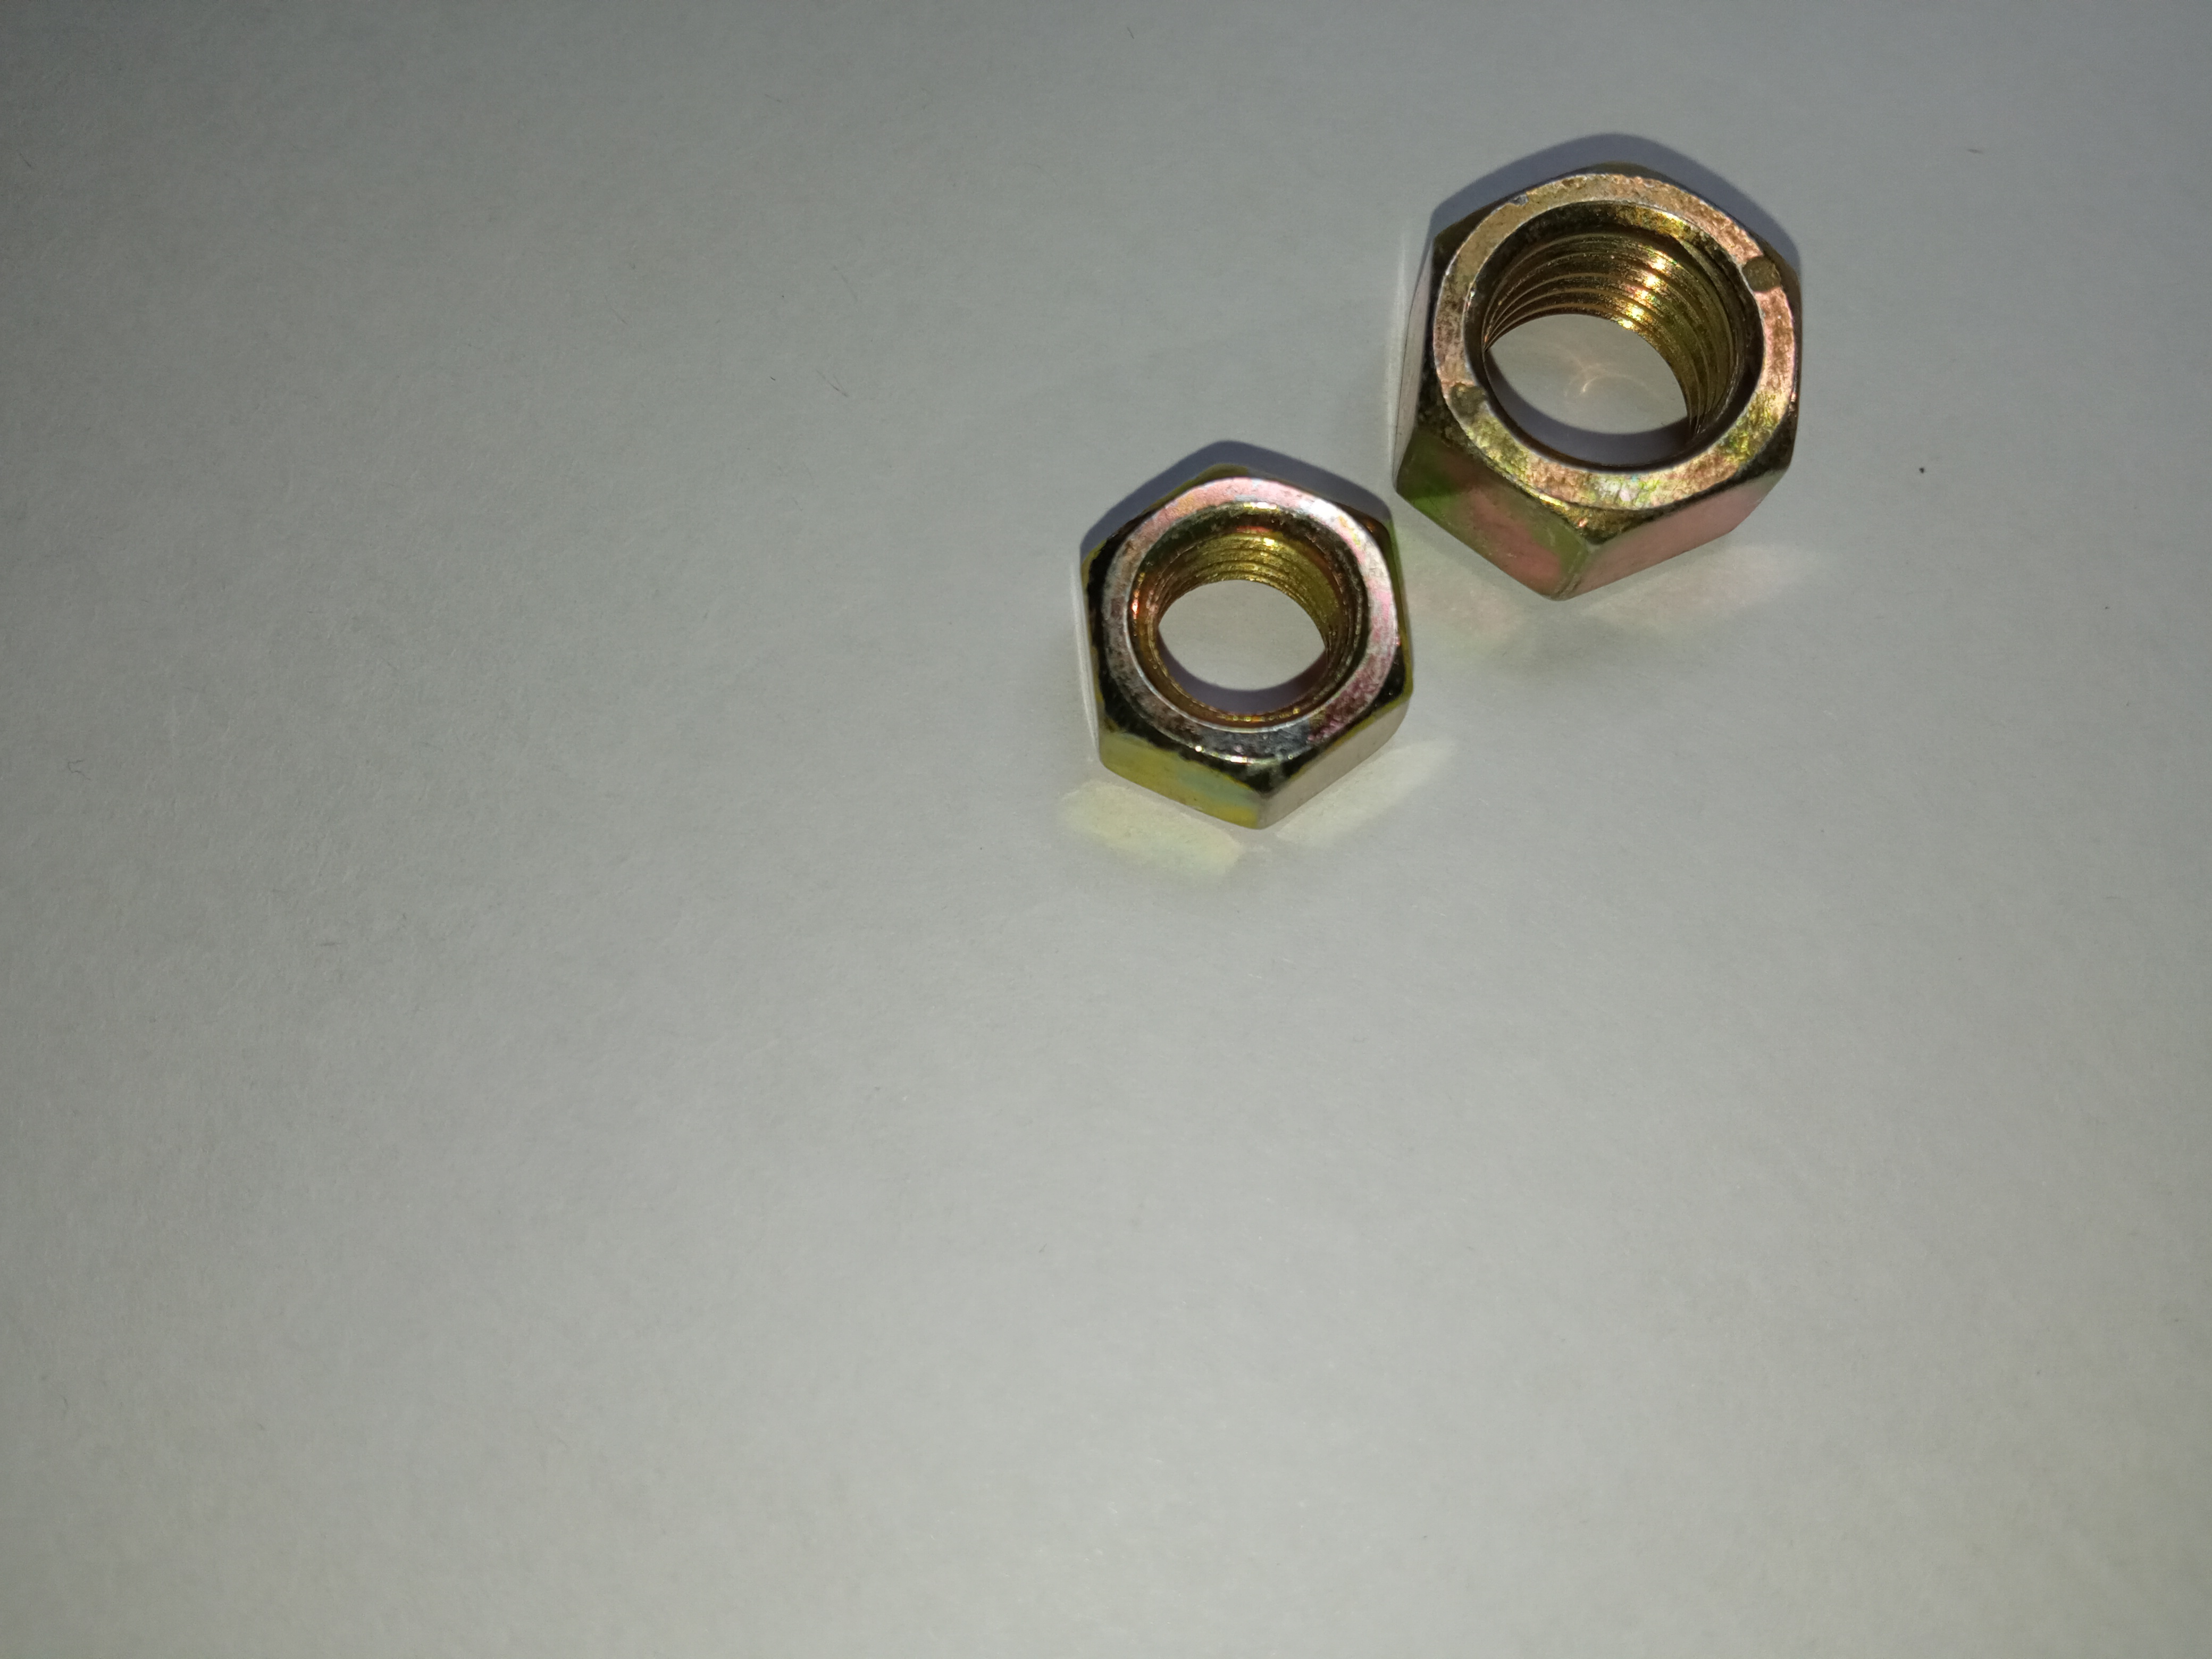m10: (1402, 195, 1834, 544)
m8: (1071, 471, 1413, 807)
